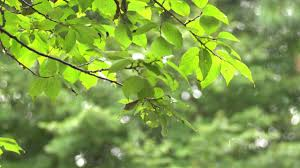tree: (4, 5, 258, 126)
